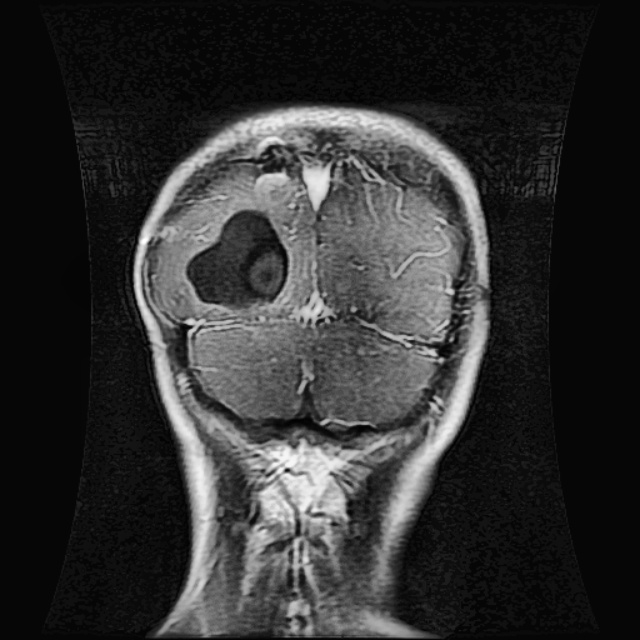Meningioma: (180, 202, 293, 308)
